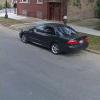Car: (11, 17, 92, 60)
